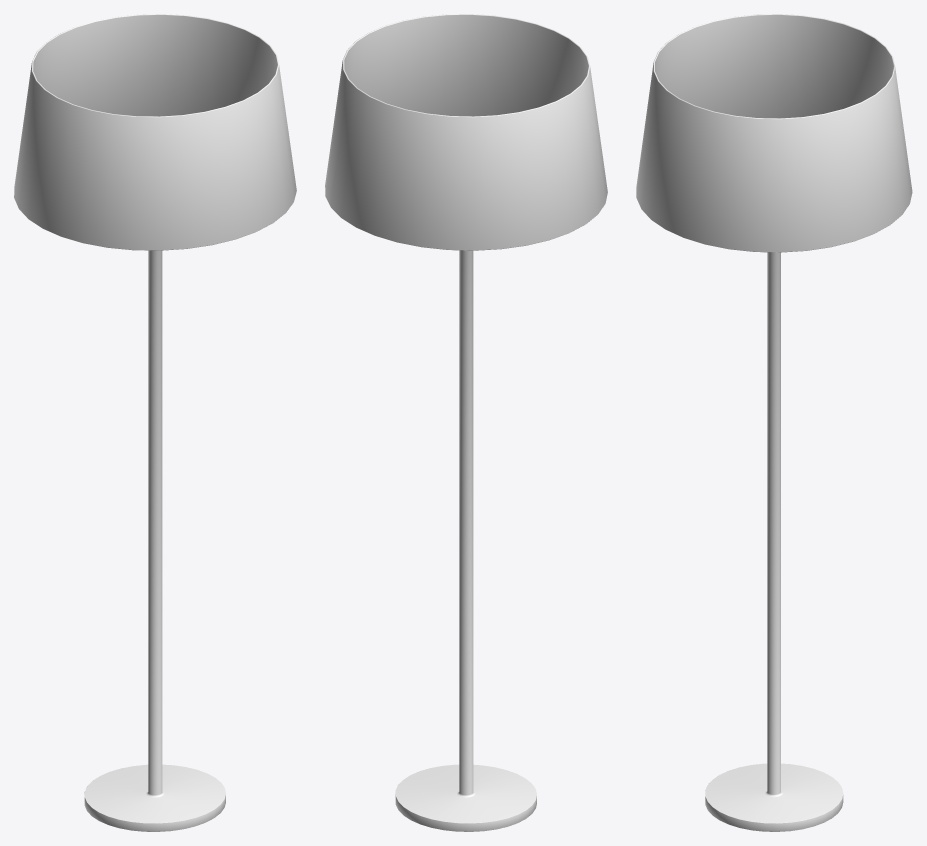
The model's file is lampara.obj.
3 renders of one model, left to right at view 1: azimuth 30°, elevation 25°; view 2: azimuth 150°, elevation 25°; view 3: azimuth 270°, elevation 25°, orthographic.
Visible parts, largest first — view 1: lampara:Lamp_stand_Circle_006_Lamp_stand1; view 2: lampara:Lamp_stand_Circle_006_Lamp_stand1; view 3: lampara:Lamp_stand_Circle_006_Lamp_stand1.
Boxes of the visible parts, <box> form: lampara:Lamp_stand_Circle_006_Lamp_stand1: <box>14,14,296,831</box>; lampara:Lamp_stand_Circle_006_Lamp_stand1: <box>325,14,607,831</box>; lampara:Lamp_stand_Circle_006_Lamp_stand1: <box>636,14,912,831</box>.
Bounding box in the file's own units: 1.3 × 3.7 × 1.26.
Materials: 1 (1 with a texture image).
